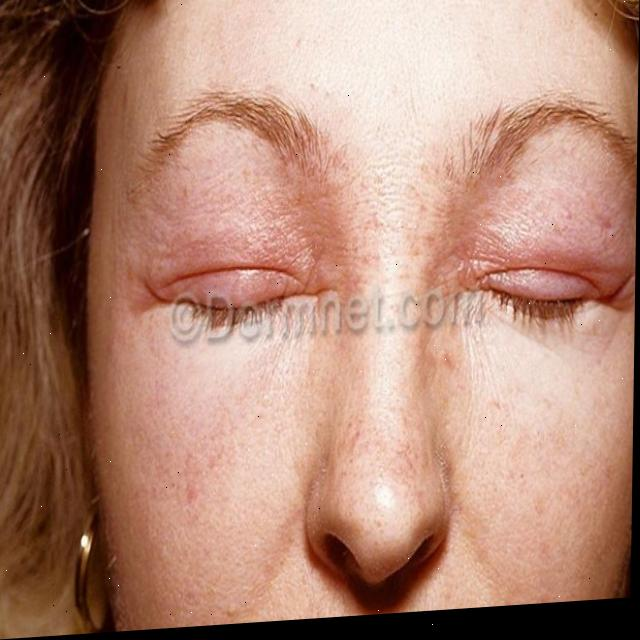Eczema: (141, 184, 308, 307), (472, 193, 637, 314)
